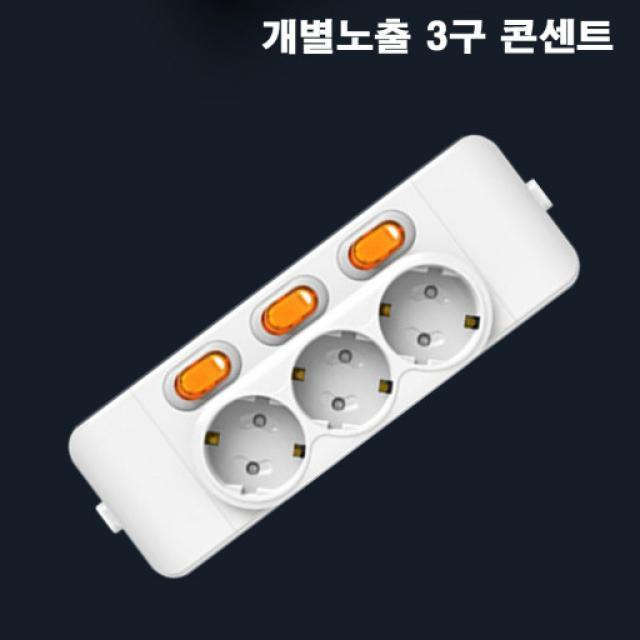typeb: (87, 148, 591, 592)
